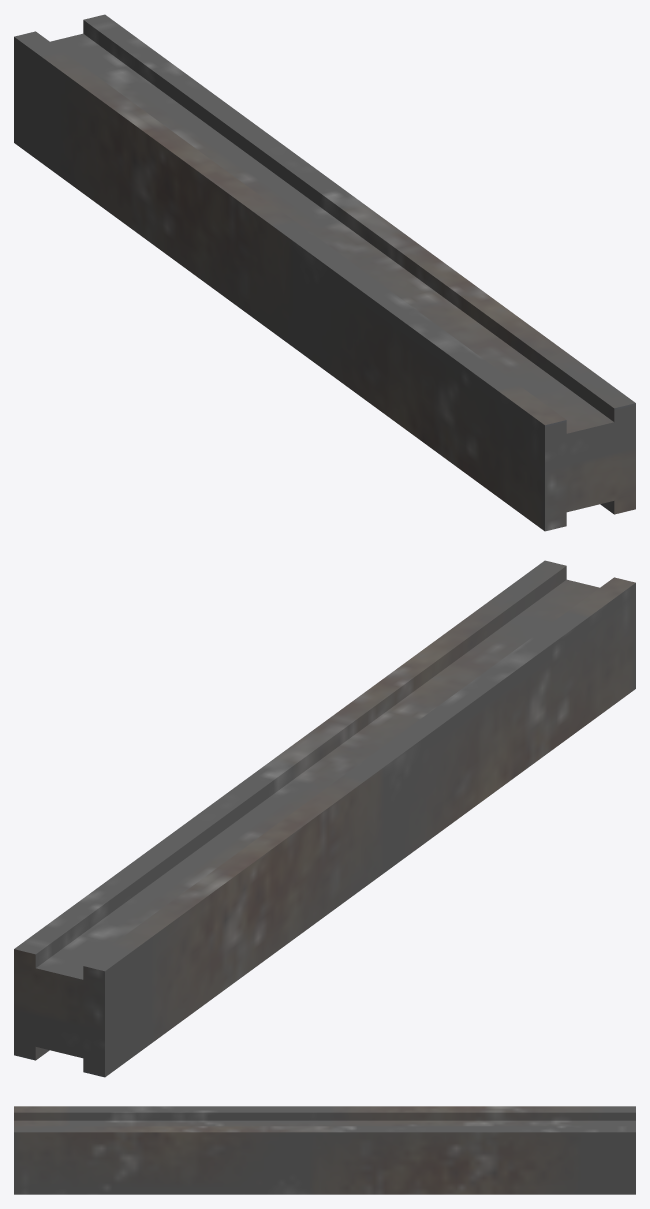
Rendered from beam.fbx.
3 views of the same model, one above another, from view 1: azimuth 30°, elevation 25°; view 2: azimuth 150°, elevation 25°; view 3: azimuth 270°, elevation 25° (orthographic). The views are drawn at different scales.
Parts seen in each view (by area): view 1: polySurface141; view 2: polySurface141; view 3: polySurface141.
Boxes of the visible parts, box(x1,y1,x2,y2) form: polySurface141: box(14, 14, 635, 531); polySurface141: box(14, 560, 635, 1077); polySurface141: box(14, 1106, 635, 1194).
Bounding box in the file's own units: 0.1588 × 0.177 × 1.6.
1 material, 1 textured.
